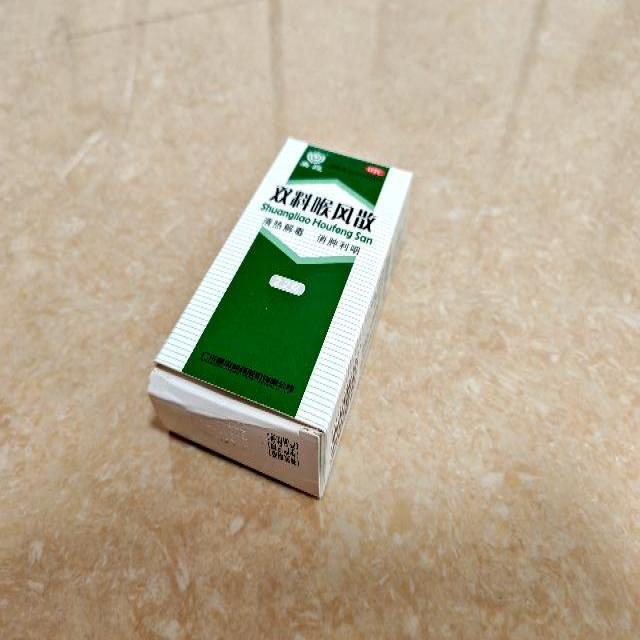box: (148, 135, 414, 497)
